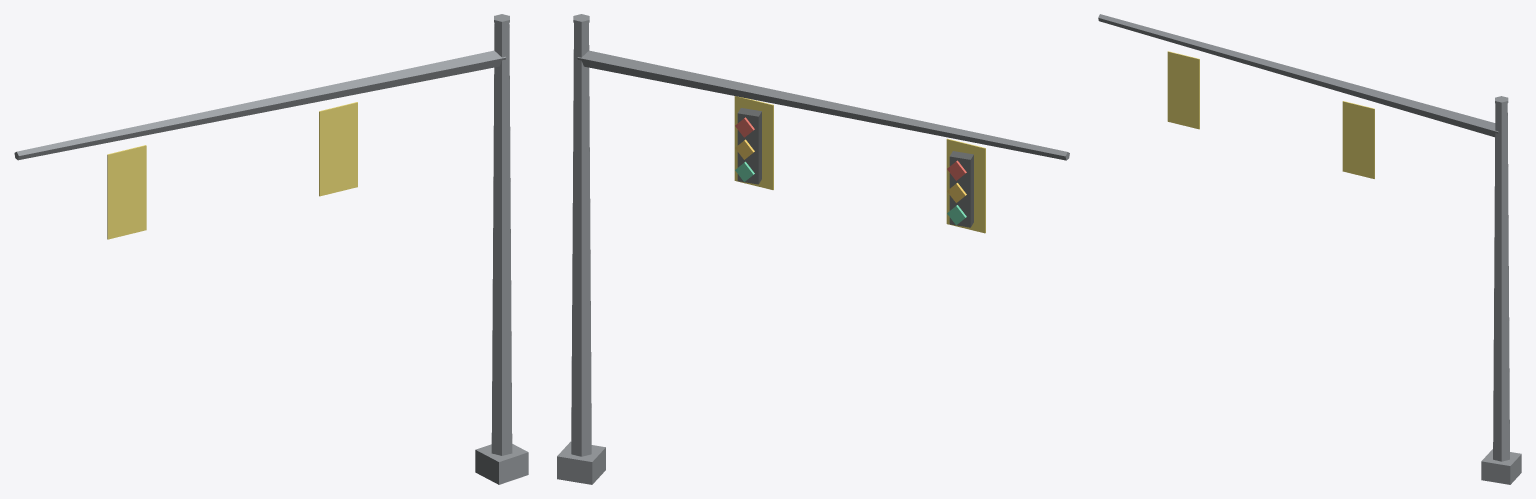
Rendered from signal-2-far.glb.
3 renders of one model, left to right at view 1: azimuth 30°, elevation 25°; view 2: azimuth 150°, elevation 25°; view 3: azimuth 330°, elevation 25°, orthographic. The views are drawn at different scales.
Visible parts, largest first — view 1: signal-2-far; view 2: signal-2-far; view 3: signal-2-far.
Boxes of the visible parts, <box> form: signal-2-far: <box>14,14,528,484</box>; signal-2-far: <box>557,14,1069,484</box>; signal-2-far: <box>1098,14,1521,484</box>.
Size of the model in its own units: 1.16 by 1 by 0.0857.
